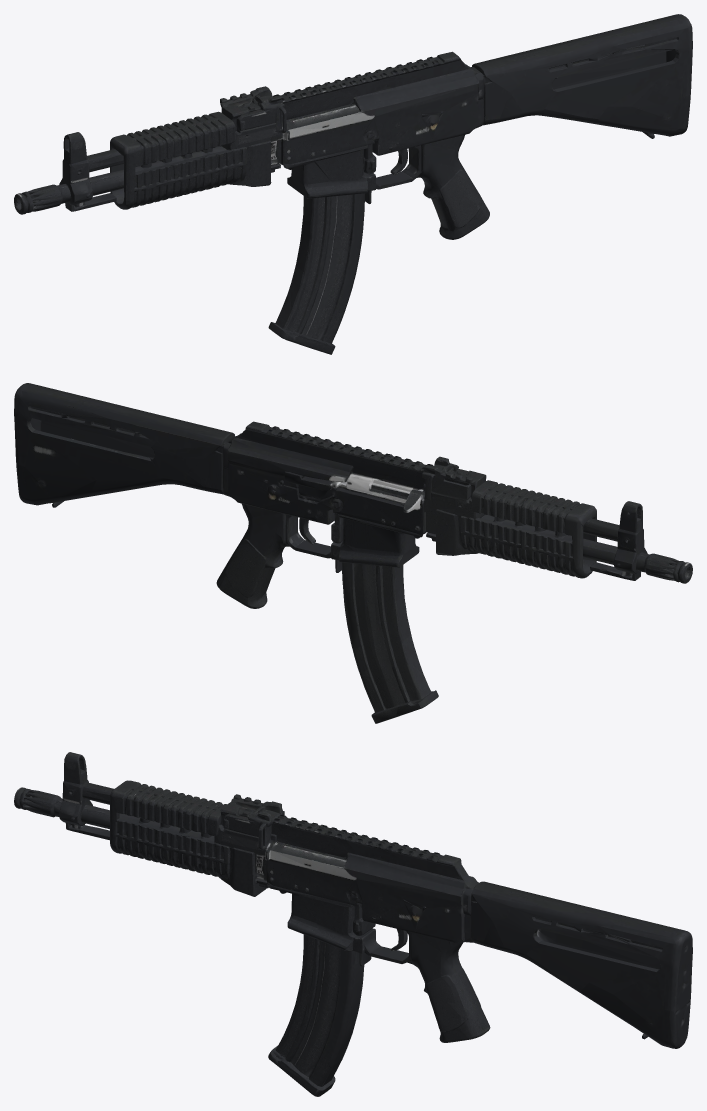
3 views of the same model, one above another, from view 1: azimuth 30°, elevation 25°; view 2: azimuth 150°, elevation 25°; view 3: azimuth 330°, elevation 25° (orthographic).
Bounding box in the file's own units: 1.9 × 0.7543 × 0.1535.
Materials: 1 (1 with a texture image).
